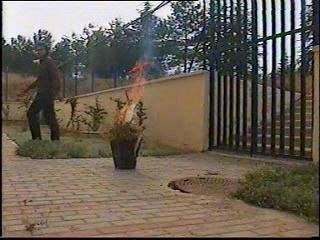fire: (122, 65, 143, 129)
